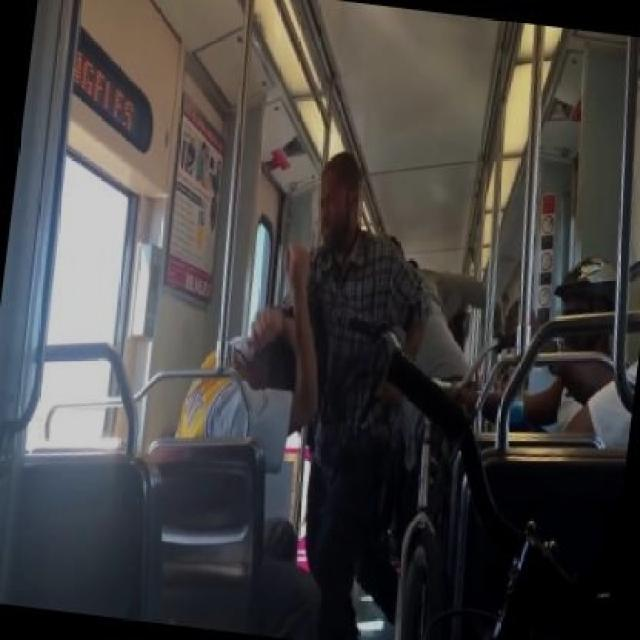fight: (145, 131, 438, 635)
